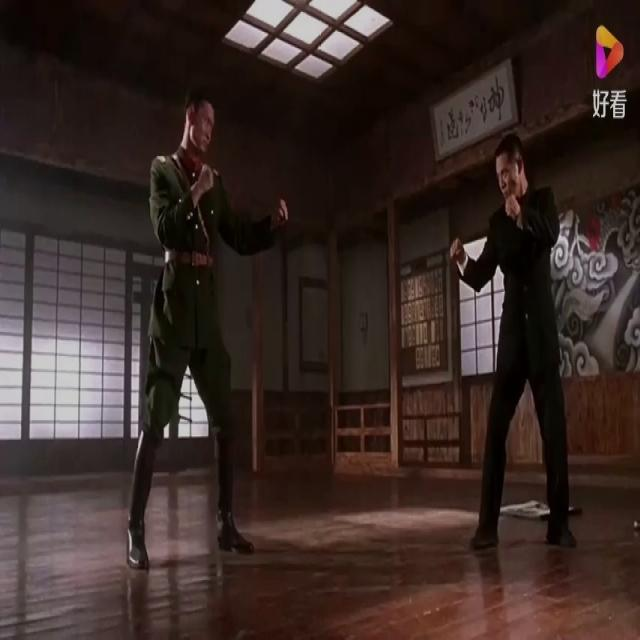fight: (121, 89, 590, 566)
